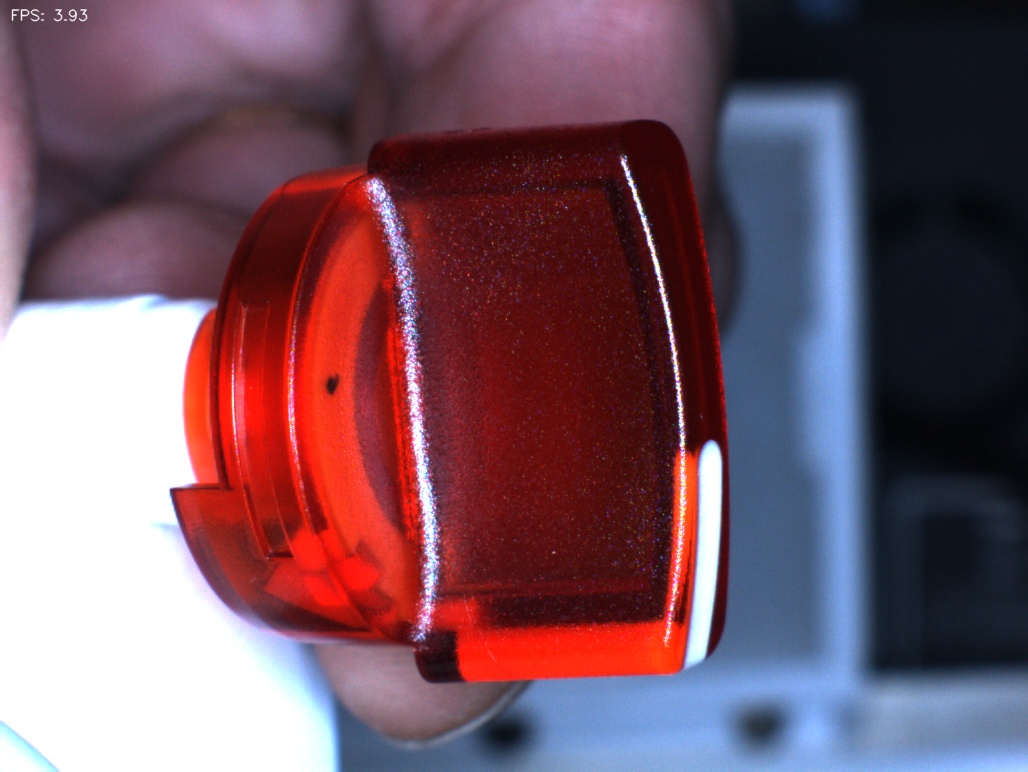PointNoir: (298, 350, 371, 417)
